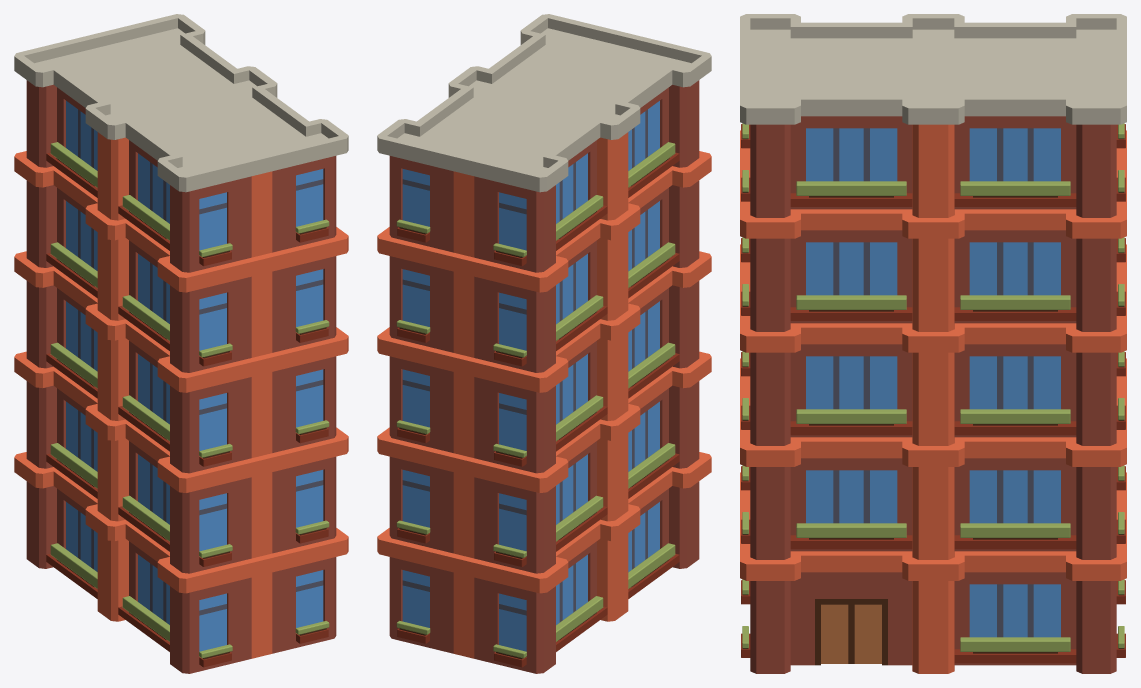
3 views of the same model, side by side, from view 1: azimuth 30°, elevation 25°; view 2: azimuth 150°, elevation 25°; view 3: azimuth 270°, elevation 25° (orthographic). The views are drawn at different scales.
Parts seen in each view (by area): view 1: Predio 2; view 2: Predio 2; view 3: Predio 2.
Part boxes in pixels (x1,y1,x2,y2): Predio 2: (14, 14, 348, 673); Predio 2: (377, 14, 711, 673); Predio 2: (740, 14, 1126, 673).
Size of the model in its own units: 3541 by 9992 by 6145.
